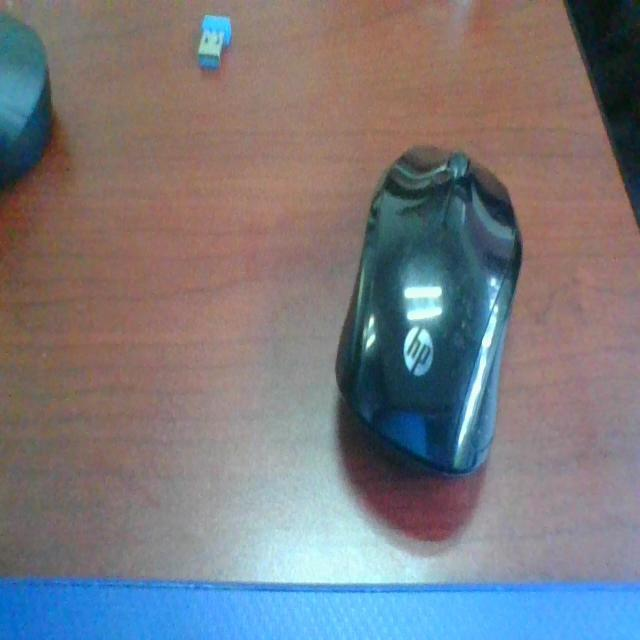mouse: (342, 125, 516, 568)
